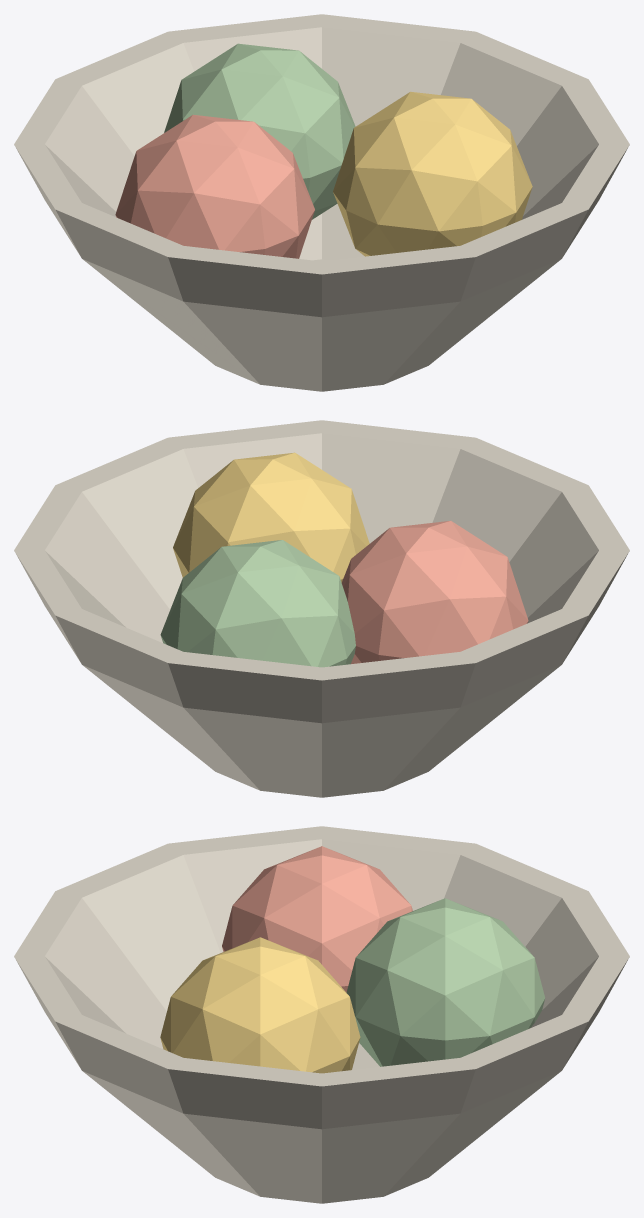
Rendered from cozy-home-interiors-fruit-bowl-9c96b967.glb.
3 views of the same model, one above another, from view 1: azimuth 30°, elevation 25°; view 2: azimuth 150°, elevation 25°; view 3: azimuth 270°, elevation 25° (orthographic).
Visible parts, largest first — view 1: fruit-bowl; view 2: fruit-bowl; view 3: fruit-bowl.
Boxes of the visible parts, x1,y1,x2,y2 form: fruit-bowl: (14, 14, 629, 391); fruit-bowl: (14, 420, 629, 797); fruit-bowl: (14, 826, 629, 1203).
Size of the model in its own units: 0.4 by 0.175 by 0.4.
